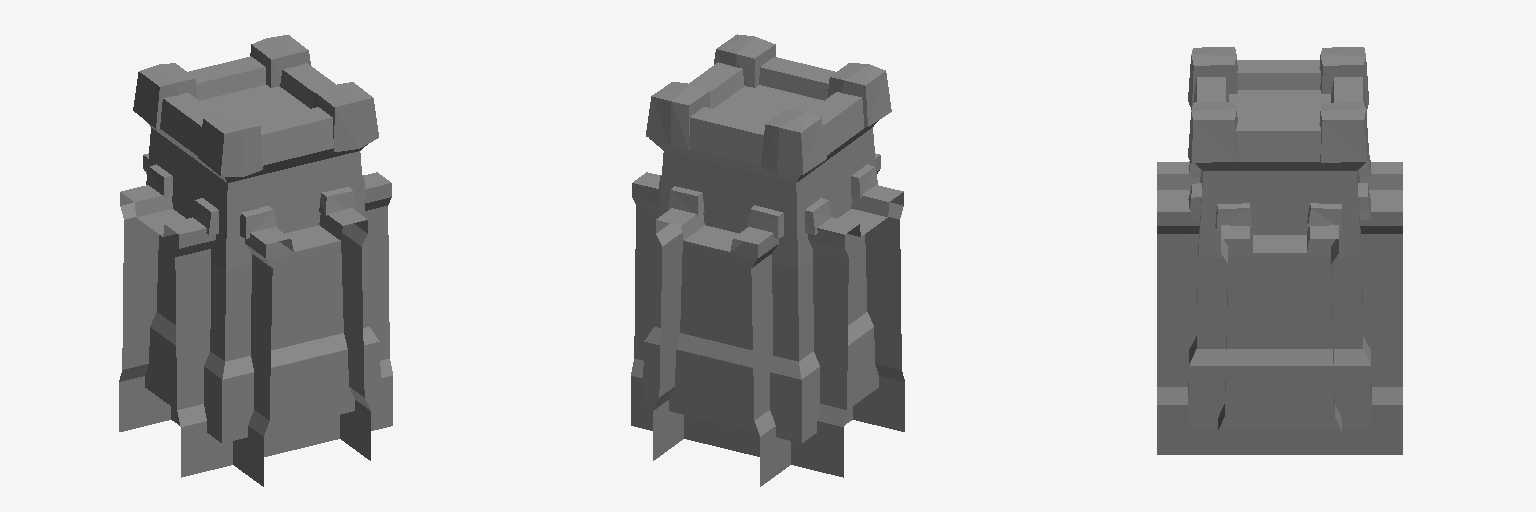
The model's file is StoneWall_A.obj.
3 views of the same model, side by side, from view 1: azimuth 30°, elevation 25°; view 2: azimuth 150°, elevation 25°; view 3: azimuth 270°, elevation 25° (orthographic).
Parts seen in each view (by area): view 1: Wall_A_Mesh.012; view 2: Wall_A_Mesh.012; view 3: Wall_A_Mesh.012.
Boxes of the visible parts, <box> form: Wall_A_Mesh.012: <box>119,35,392,486</box>; Wall_A_Mesh.012: <box>631,34,904,486</box>; Wall_A_Mesh.012: <box>1157,47,1402,454</box>.
Bounding box in the file's own units: 4 × 6.22 × 4.